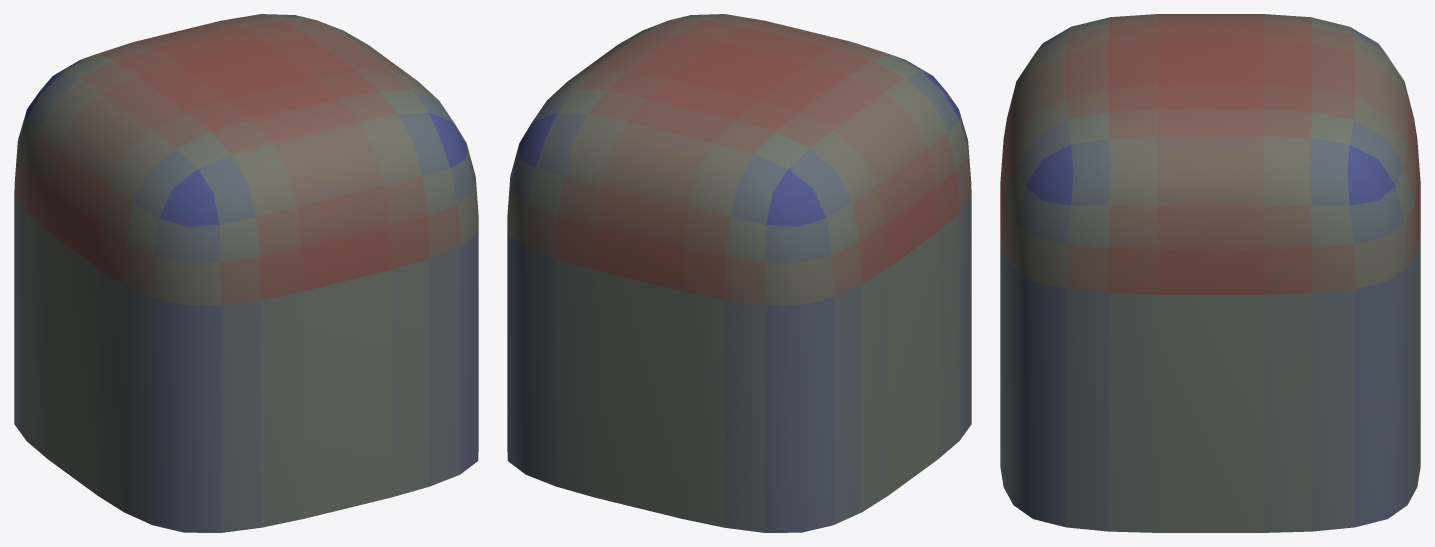
File: Cube_smooth_half.fbx
The picture shows the model from 3 angles, left to right: view 1: azimuth 30°, elevation 25°; view 2: azimuth 150°, elevation 25°; view 3: azimuth 270°, elevation 25°; orthographic projection. The views are drawn at different scales.
Visible parts, largest first — view 1: Mesh; view 2: Mesh; view 3: Mesh.
Boxes of the visible parts, x1,y1,x2,y2 form: Mesh: (14, 14, 478, 532); Mesh: (507, 14, 971, 532); Mesh: (1000, 14, 1420, 532).
Bounding box in the file's own units: 100 × 100 × 100.
